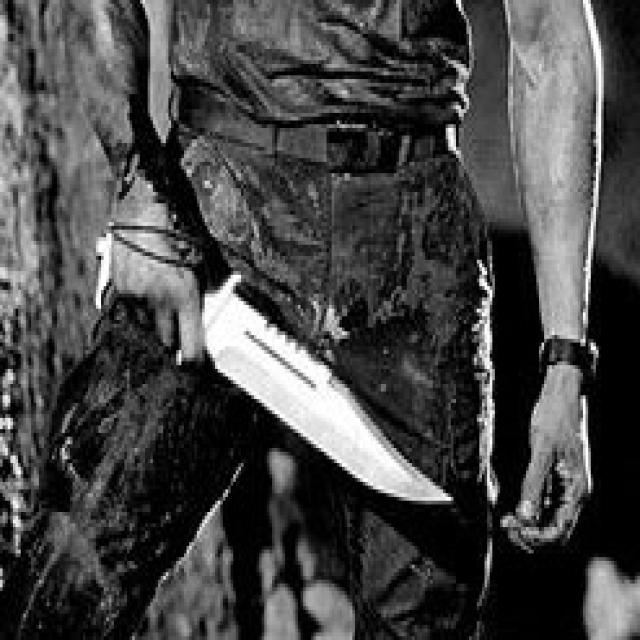knife: (193, 270, 465, 517)
